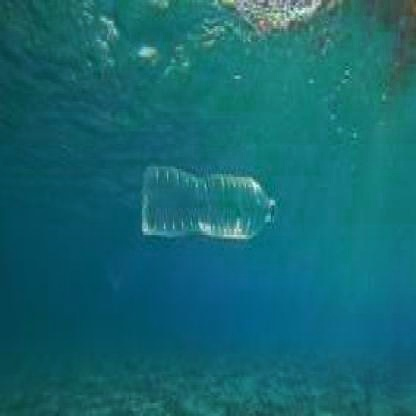pbottle: (132, 151, 290, 252)
